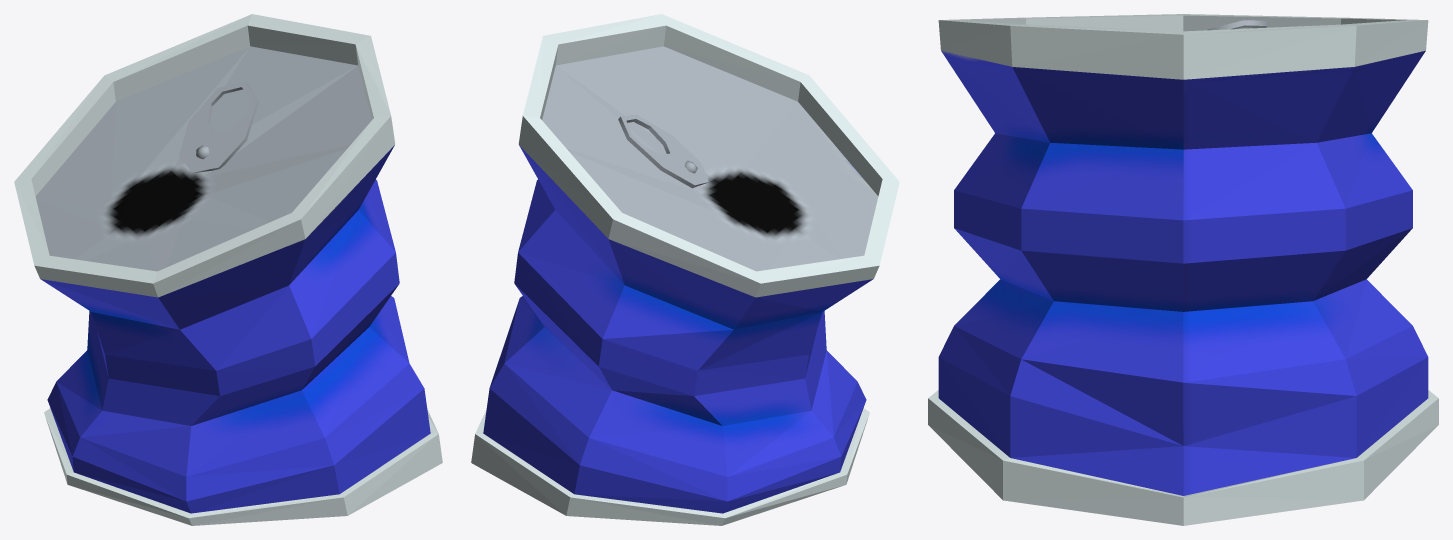
Rendered from Can01.FBX.
3 renders of one model, left to right at view 1: azimuth 30°, elevation 25°; view 2: azimuth 150°, elevation 25°; view 3: azimuth 270°, elevation 25°, orthographic. The views are drawn at different scales.
Visible parts, largest first — view 1: Can01; view 2: Can01; view 3: Can01.
Part boxes in pixels (x1,y1,x2,y2): Can01: (14,14,442,525); Can01: (471,14,899,525); Can01: (928,14,1438,525).
Bounding box in the file's own units: 46.73 × 43.5 × 43.99.
